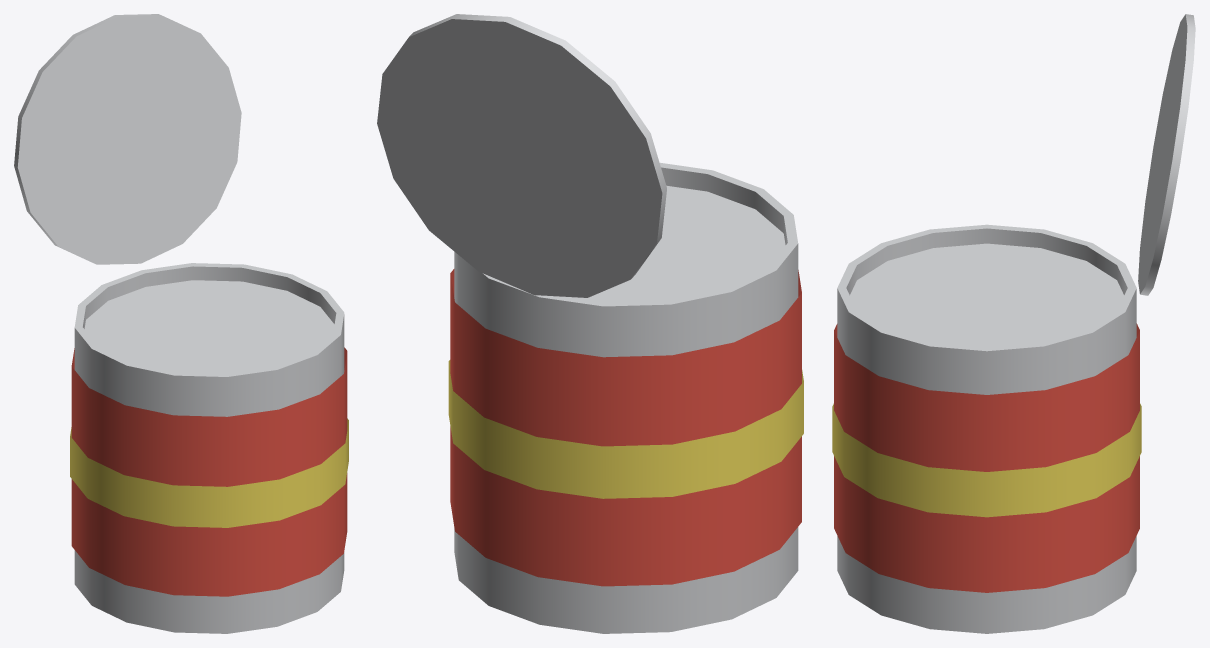
The model's file is tin_harissa.fbx.
The picture shows the model from 3 angles, left to right: view 1: azimuth 30°, elevation 25°; view 2: azimuth 150°, elevation 25°; view 3: azimuth 270°, elevation 25°; orthographic projection. The views are drawn at different scales.
Visible parts, largest first — view 1: tin_harissa; view 2: tin_harissa; view 3: tin_harissa.
Part boxes in pixels (bbox=[...]): tin_harissa: bbox=[14, 14, 348, 633]; tin_harissa: bbox=[377, 14, 803, 633]; tin_harissa: bbox=[832, 14, 1195, 633].
Size of the model in its own units: 0.0744 by 0.1441 by 0.0874.
